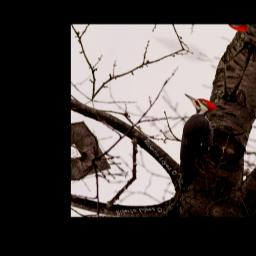Woodpecker: (149, 90, 229, 196)
